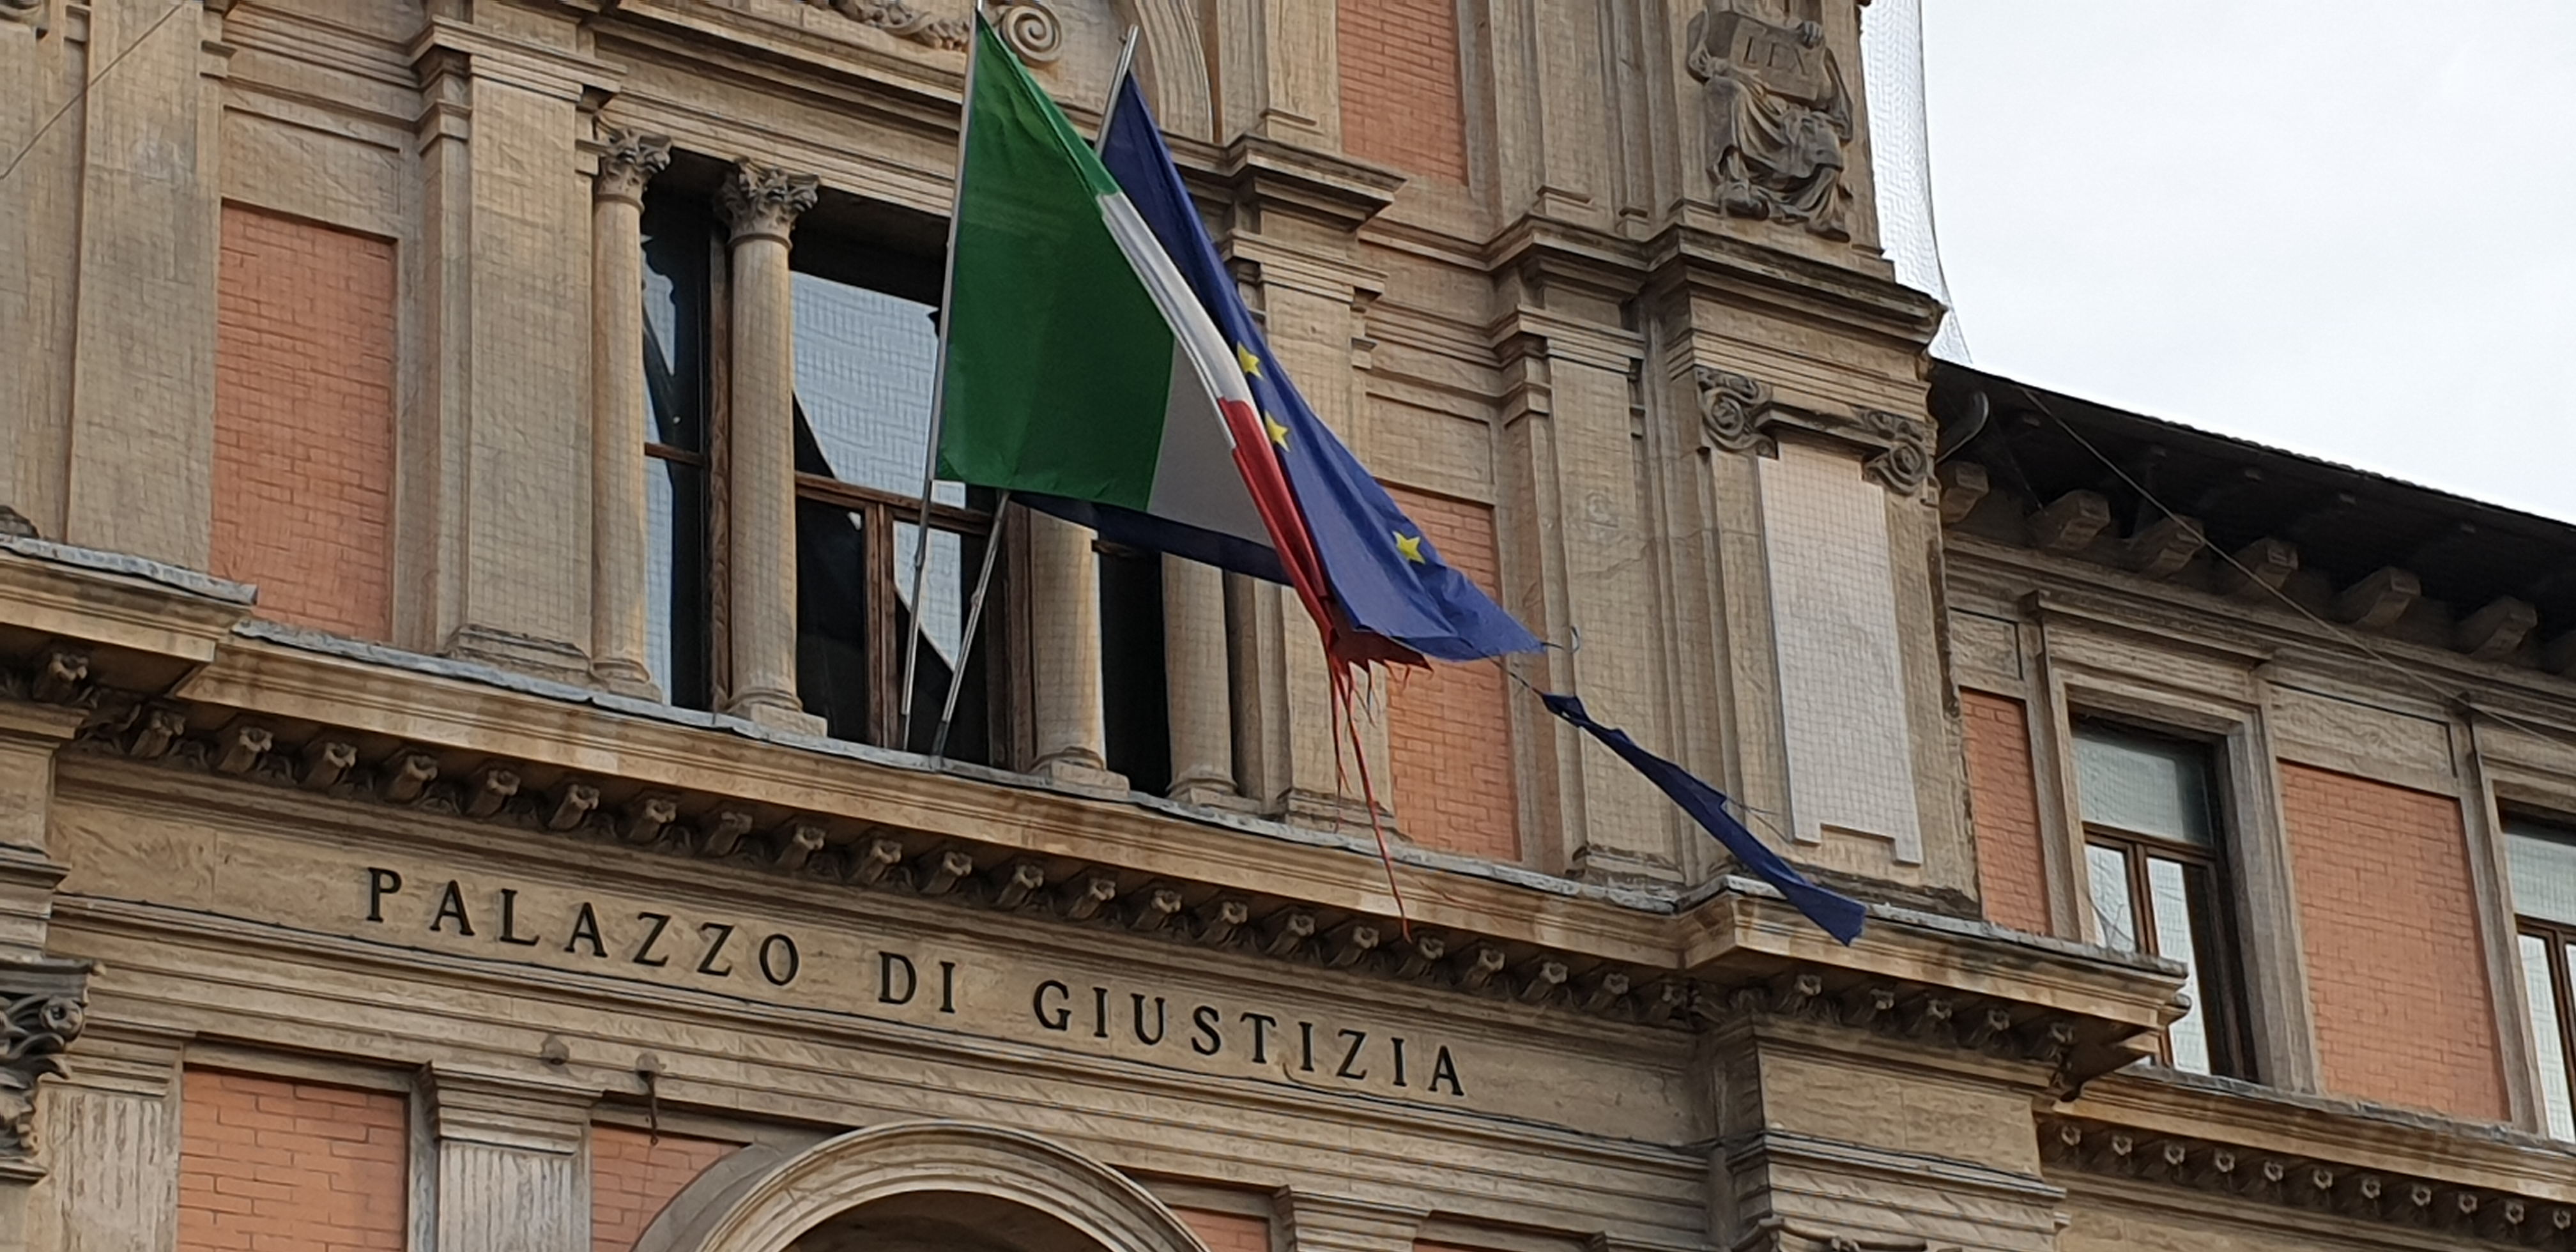Flag: (941, 12, 1423, 680), (1099, 74, 1534, 659)
